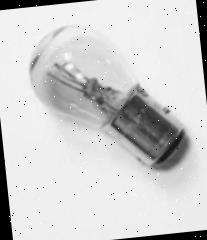lightbulb: (22, 13, 189, 180)
